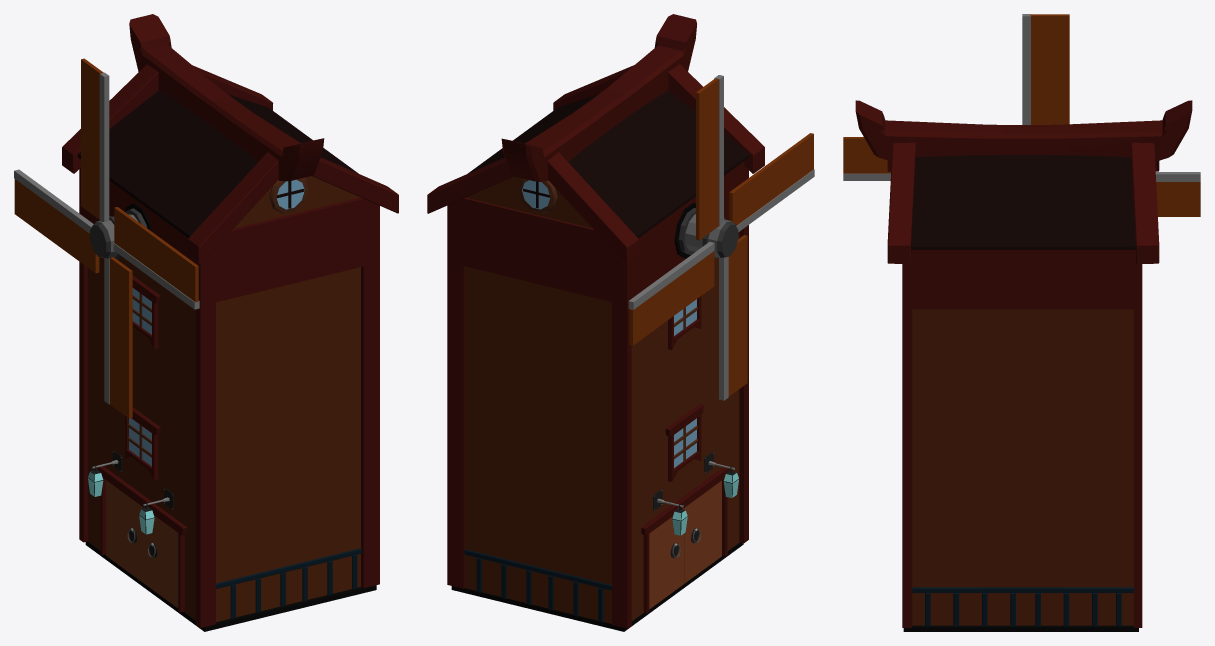
File: Windmill.fbx
3 renders of one model, left to right at view 1: azimuth 30°, elevation 25°; view 2: azimuth 150°, elevation 25°; view 3: azimuth 270°, elevation 25°, orthographic.
Visible parts, largest first — view 1: Windmill_house, Windmill_arm; view 2: Windmill_house, Windmill_arm; view 3: Windmill_house, Windmill_arm.
Boxes of the visible parts, bbox=[...] form: Windmill_house: bbox=[62, 14, 398, 631]; Windmill_arm: bbox=[14, 58, 199, 418]; Windmill_house: bbox=[427, 14, 764, 631]; Windmill_arm: bbox=[628, 75, 814, 400]; Windmill_house: bbox=[855, 100, 1192, 631]; Windmill_arm: bbox=[843, 14, 1200, 216].
Size of the model in its own units: 1875 by 4005 by 2515.
